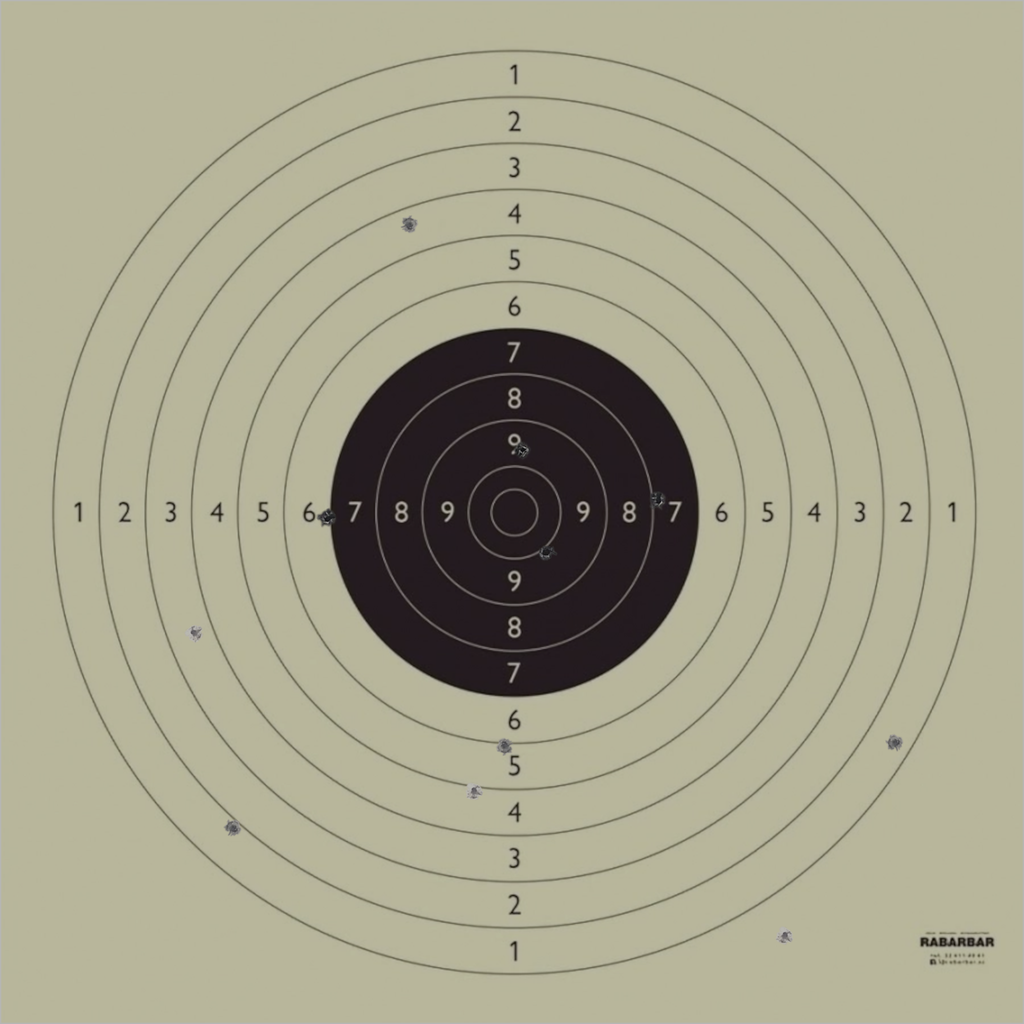0 punktow: (776, 927, 794, 945)
1 punkt: (886, 734, 905, 752)
10 punktow: (537, 543, 556, 562)
2 punkty: (224, 819, 243, 838)
3 punkty: (185, 624, 204, 642)
4 punkty: (400, 216, 419, 235)
5 punktow: (465, 782, 483, 800)
6 punktow: (495, 736, 514, 755)
7 punktow: (318, 510, 337, 528)
8 punktow: (649, 492, 667, 510)
9 punktow: (514, 441, 532, 459)
